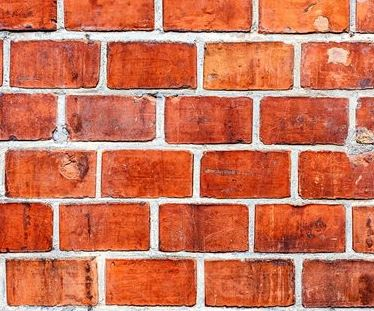brick: (4, 256, 101, 308), (202, 257, 297, 309), (198, 148, 294, 199), (102, 257, 199, 307), (57, 200, 150, 252), (255, 202, 348, 254), (156, 202, 250, 253), (4, 149, 99, 198), (102, 150, 196, 199), (107, 40, 199, 90), (203, 41, 296, 90), (162, 96, 255, 145), (9, 39, 100, 89), (64, 94, 158, 142), (259, 94, 349, 144), (297, 150, 374, 201), (300, 39, 374, 91), (300, 258, 374, 307), (164, 1, 254, 34), (1, 92, 59, 142), (259, 1, 351, 32), (64, 1, 156, 31), (1, 202, 54, 252), (1, 1, 58, 32), (352, 205, 374, 254), (355, 96, 374, 142)
